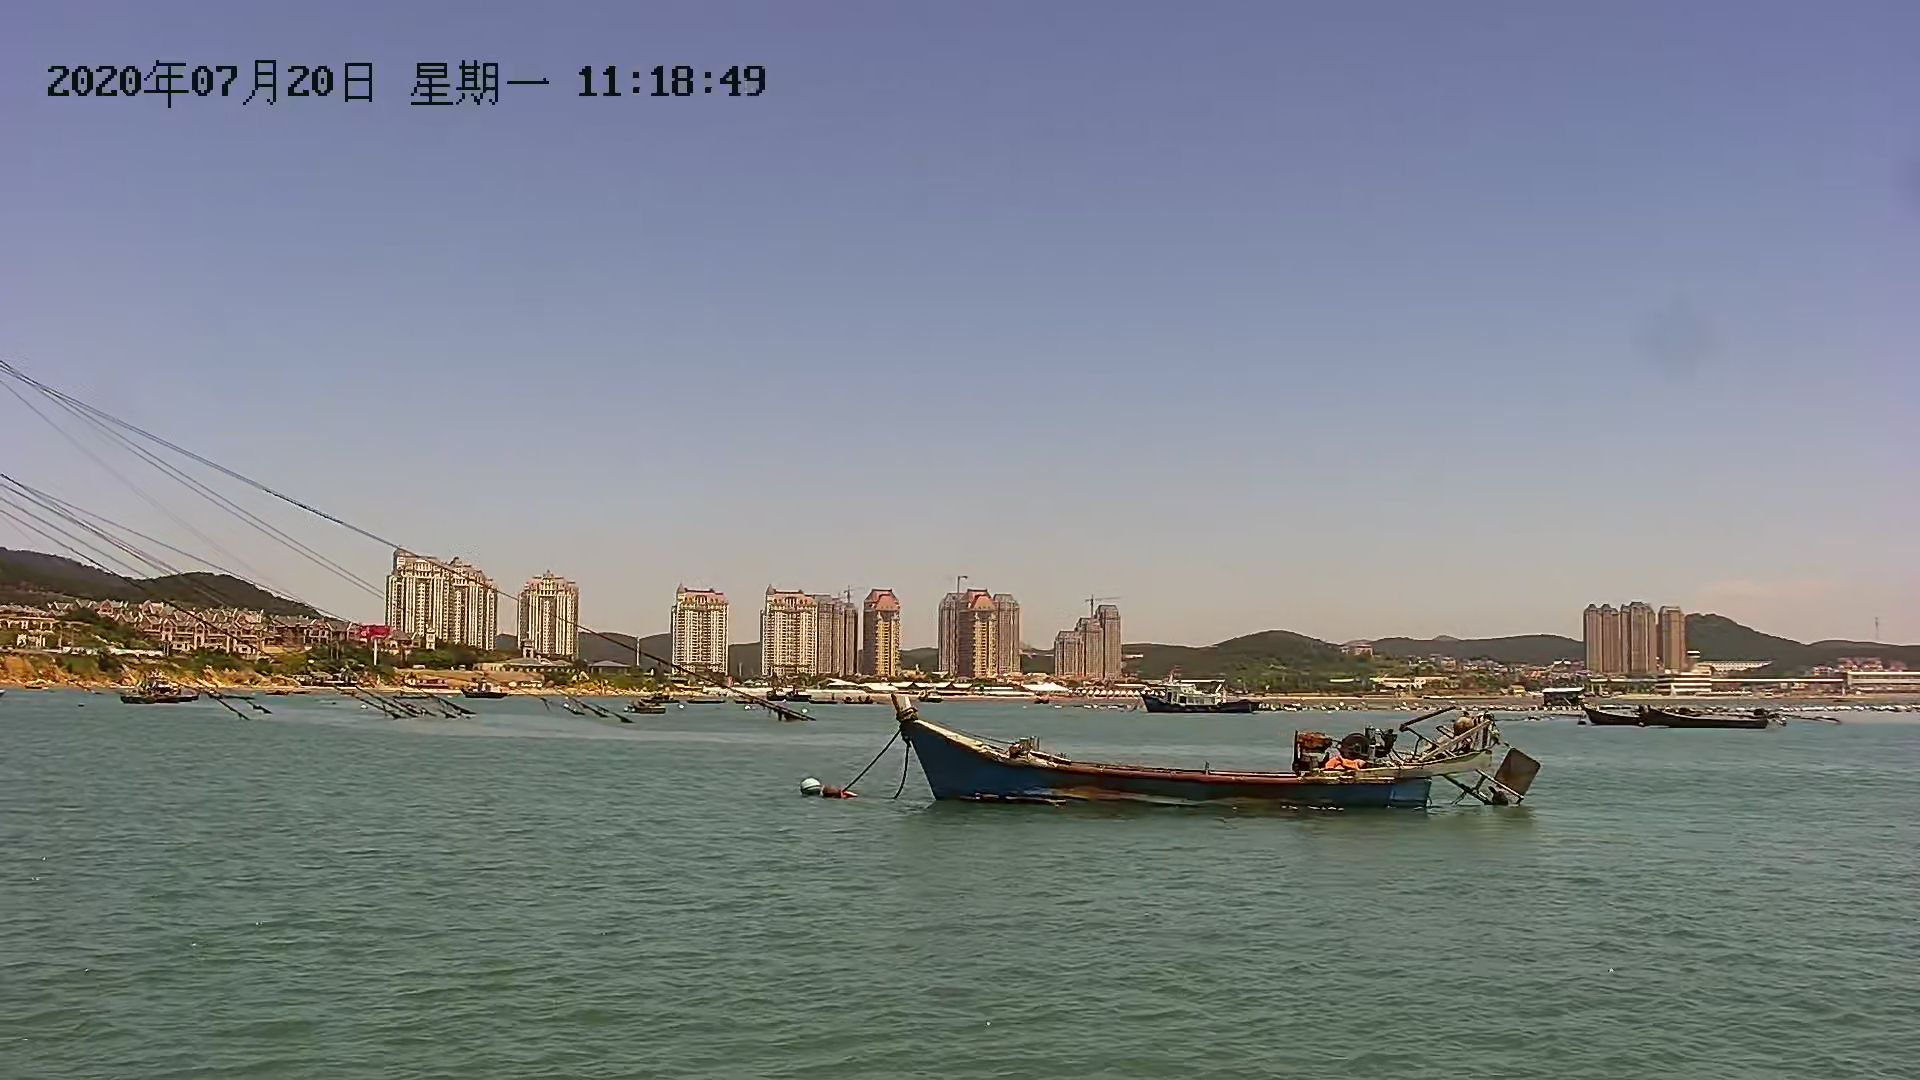ball: (789, 774, 855, 804)
boat: (889, 686, 1528, 825), (1577, 694, 1799, 738), (1137, 686, 1269, 717)
